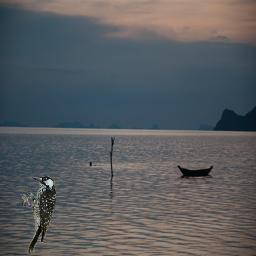Woodpecker: (22, 176, 56, 254)
